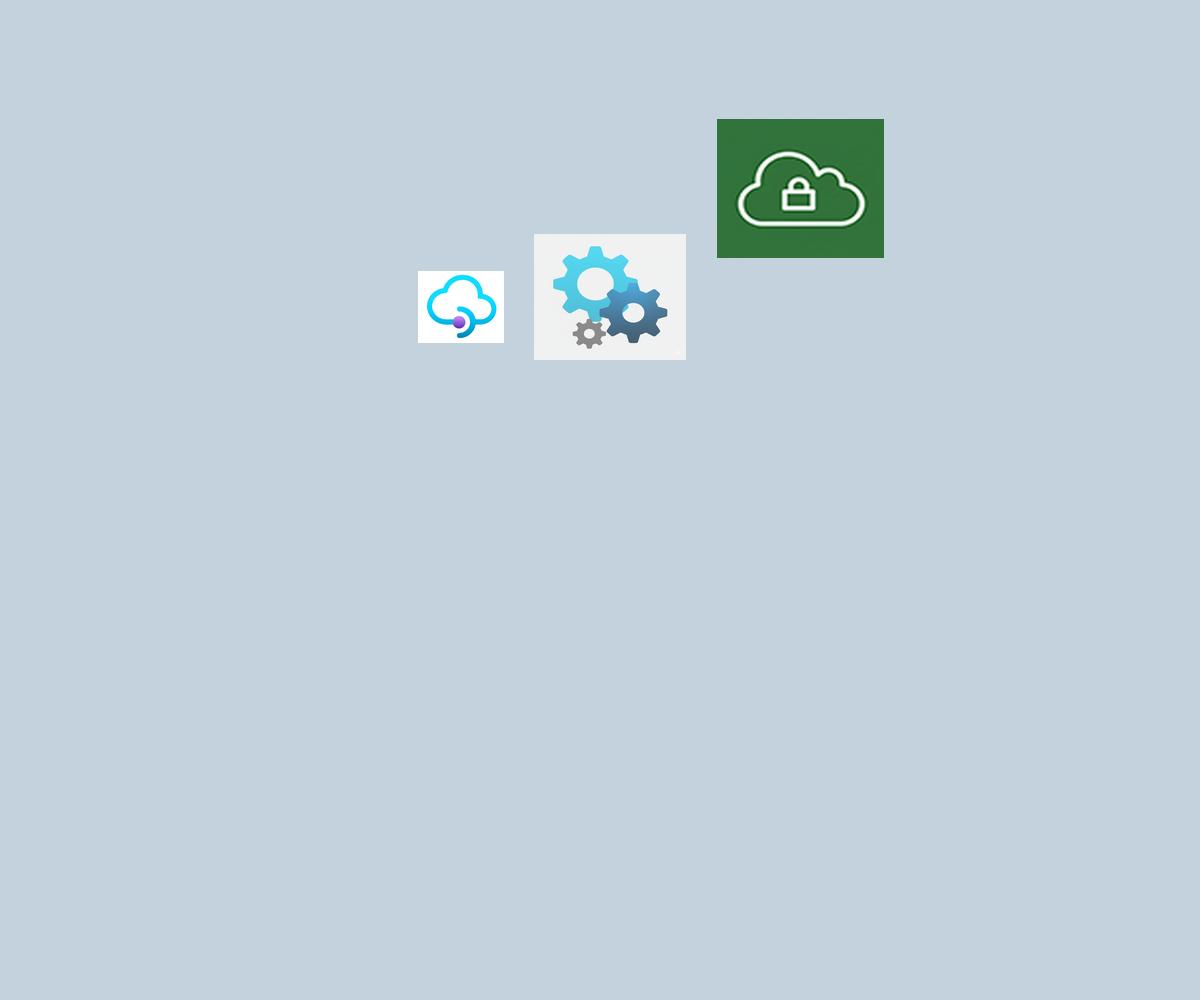AWS-Private_vpc: (717, 119, 884, 258)
Azure_api: (534, 234, 686, 360)
Azure_api_gateway: (418, 271, 504, 343)
